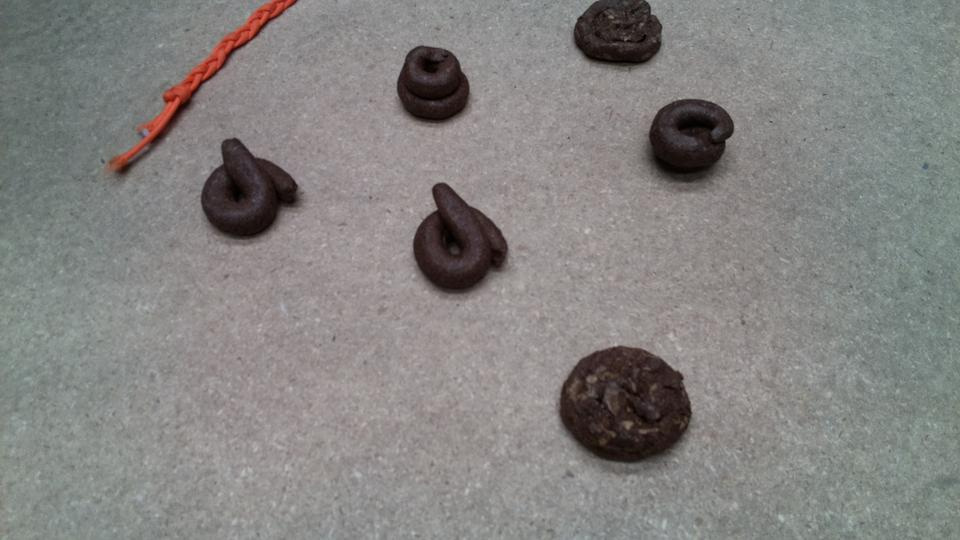poop: (555, 342, 696, 466), (410, 181, 513, 296), (200, 136, 301, 241), (646, 96, 738, 181), (395, 42, 475, 126), (572, 1, 668, 66)
rope: (103, 1, 291, 178)
